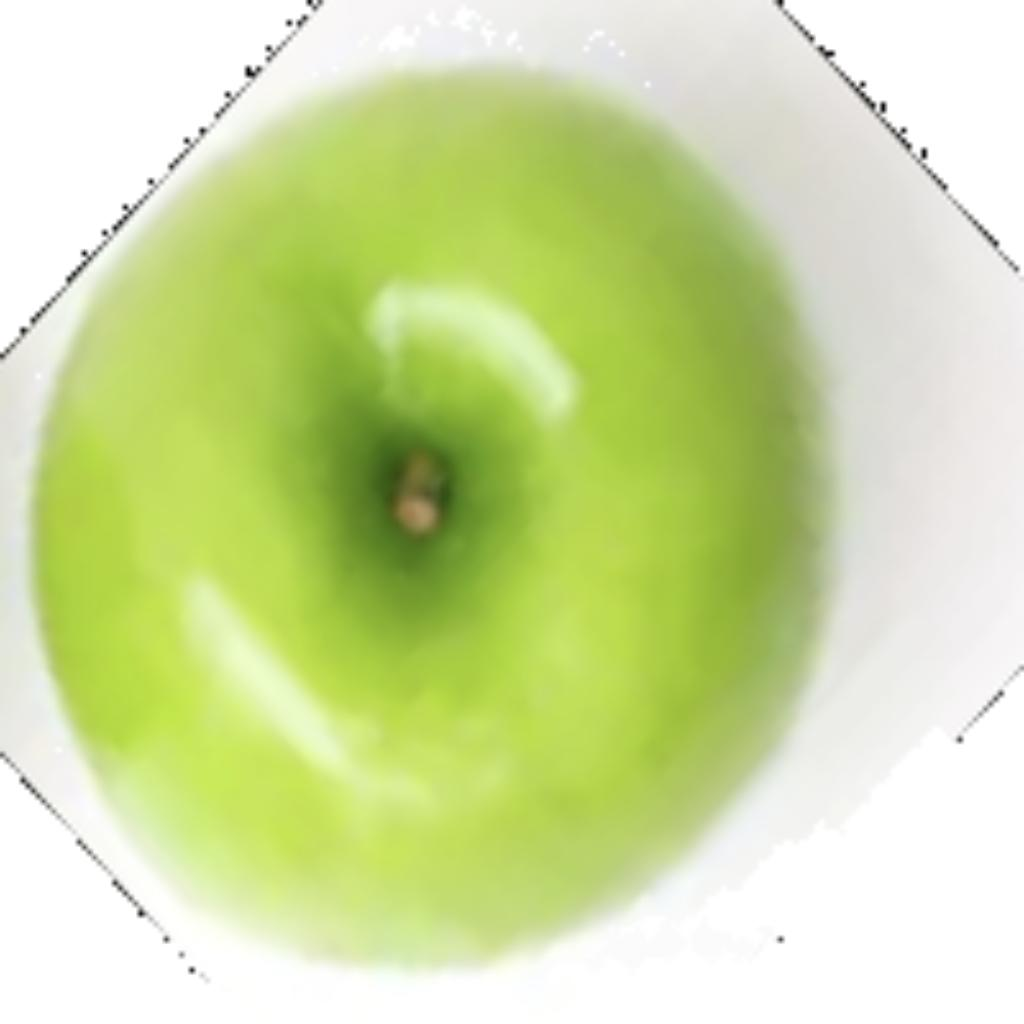apple: (10, 0, 850, 978)
